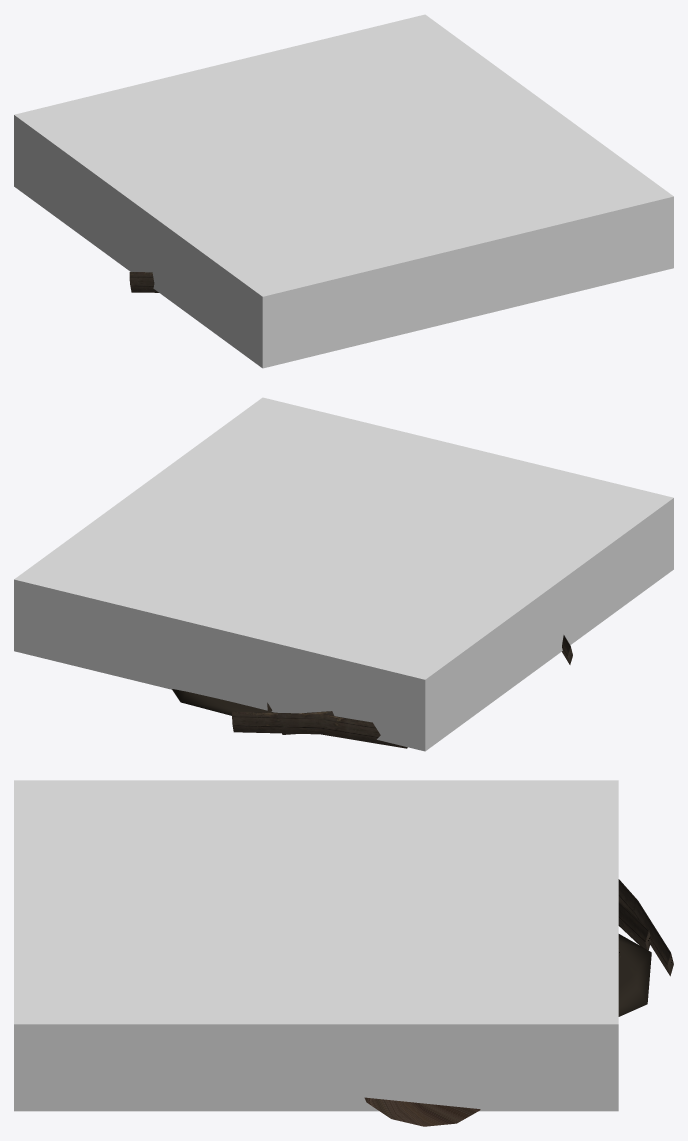
File: barrel_group_broken.glb
3 views of the same model, one above another, from view 1: azimuth 30°, elevation 25°; view 2: azimuth 150°, elevation 25°; view 3: azimuth 270°, elevation 25° (orthographic). The views are drawn at different scales.
Visible parts, largest first — view 1: col_click; view 2: col_click, barrel_group_broken; view 3: col_click, barrel_group_broken.
Boxes of the visible parts, x1,y1,x2,y2 form: col_click: [14, 14, 673, 368]; col_click: [14, 397, 673, 751]; barrel_group_broken: [172, 635, 572, 748]; col_click: [14, 780, 618, 1111]; barrel_group_broken: [364, 879, 673, 1126].
Bounding box in the file's own units: 2.32 × 0.4168 × 2.4.
5 materials, 3 textured.
